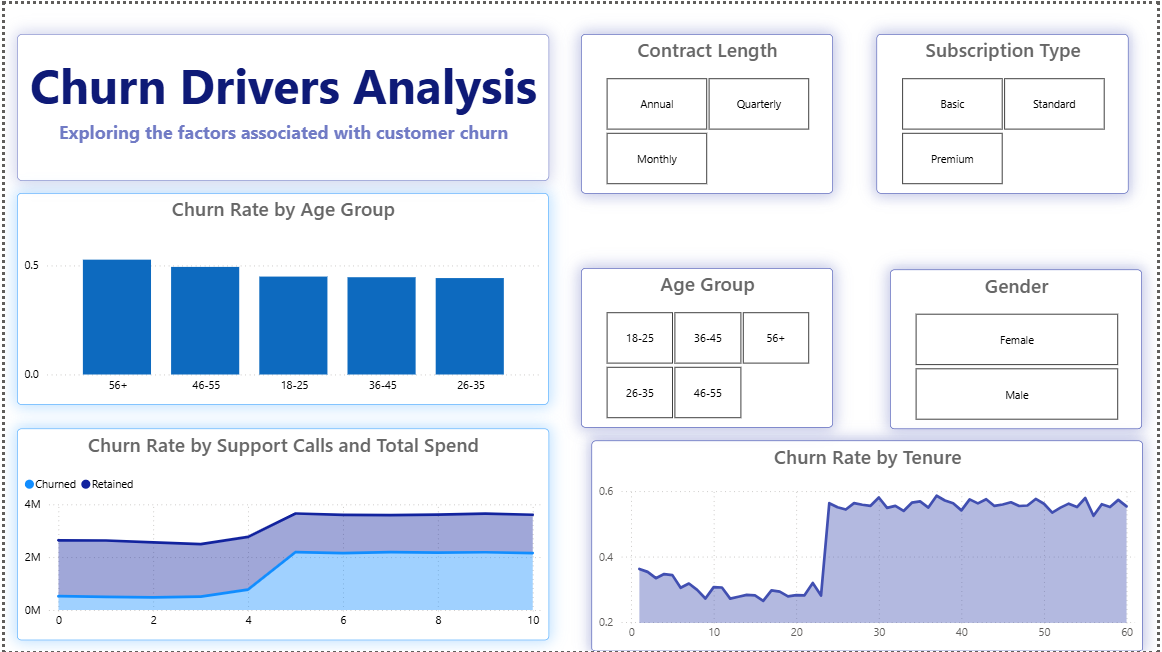

Layout of this report page (visuals, bound fields, positions):
{"tool":"powerbi","page":{"name":"Churn Drivers","canvas":[1280,720],"ordinal":1},"visuals":[{"type":"slicer","title":"Subscription Type","fields":{"Values":["CustomerChurn.Subscription_Type"]},"box":[968.3,34,280,177.1],"z":0},{"type":"slicer","title":"Gender","fields":{"Values":["CustomerChurn.Gender"]},"box":[982.9,294.7,280,177.1],"z":1000},{"type":"slicer","title":"Contract Length","fields":{"Values":["CustomerChurn.Contract_Length"]},"box":[639.6,34,280,177.1],"z":2000},{"type":"columnChart","title":"Churn Rate  by Age Group","fields":{"Category":["CustomerChurn.Age Group"],"Y":["CustomerChurn.Churn Rate"]},"box":[12.5,210,590.8,235],"z":3000},{"type":"lineChart","title":"Churn Rate by Tenure","fields":{"Category":["CustomerChurn.Tenure"],"Y":["CustomerChurn.Churn Rate"]},"box":[650.9,485.8,612.5,235],"z":4000},{"type":"stackedAreaChart","title":" Churn Rate by Support Calls and Total Spend","fields":{"Category":["CustomerChurn.Support_Calls"],"Y":["CustomerChurn.Total Spend"],"Series":["CustomerChurn.Churn Status"]},"box":[12.9,471.4,591,235],"z":5000},{"type":"textbox","title":"Churn Drivers Analysis","box":[13,34,591,163.5],"z":6000},{"type":"slicer","title":"Age Group","fields":{"Values":["CustomerChurn.Age Group"]},"box":[639.6,293.1,280,177.1],"z":7000}]}

Visuals, with their boxes in screenshot pixels (x1, y1, x2, y2), scaled from the page's 1280x720 canvas onto the 1162x652 screenshot:
"Subscription Type" slicer: 879/31/1133/191
"Gender" slicer: 892/267/1146/427
"Contract Length" slicer: 581/31/835/191
"Churn Rate  by Age Group" columnChart: 11/190/548/403
"Churn Rate by Tenure" lineChart: 591/440/1147/651
" Churn Rate by Support Calls and Total Spend" stackedAreaChart: 12/427/548/640
"Churn Drivers Analysis" textbox: 12/31/548/179
"Age Group" slicer: 581/265/835/426
